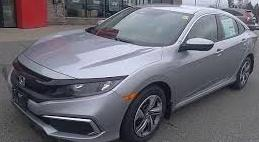Cars: (9, 7, 256, 141)
